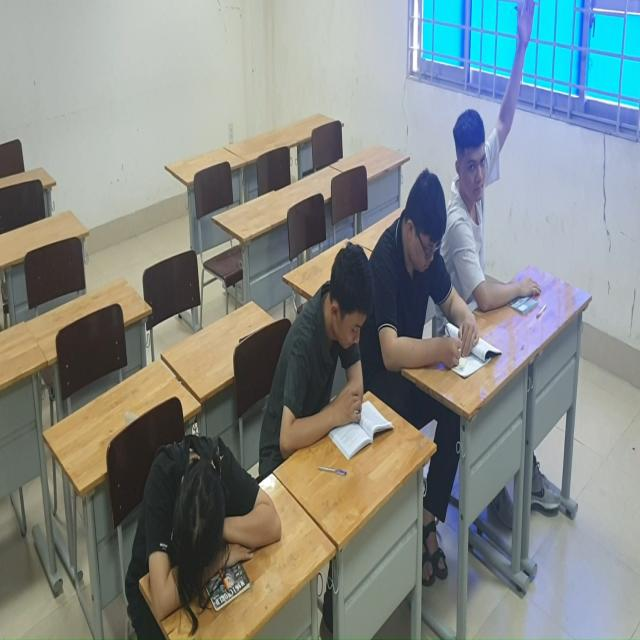raise_hand: (450, 1, 538, 346)
read: (264, 240, 398, 468), (364, 170, 503, 372)
sleep: (112, 426, 289, 630)
